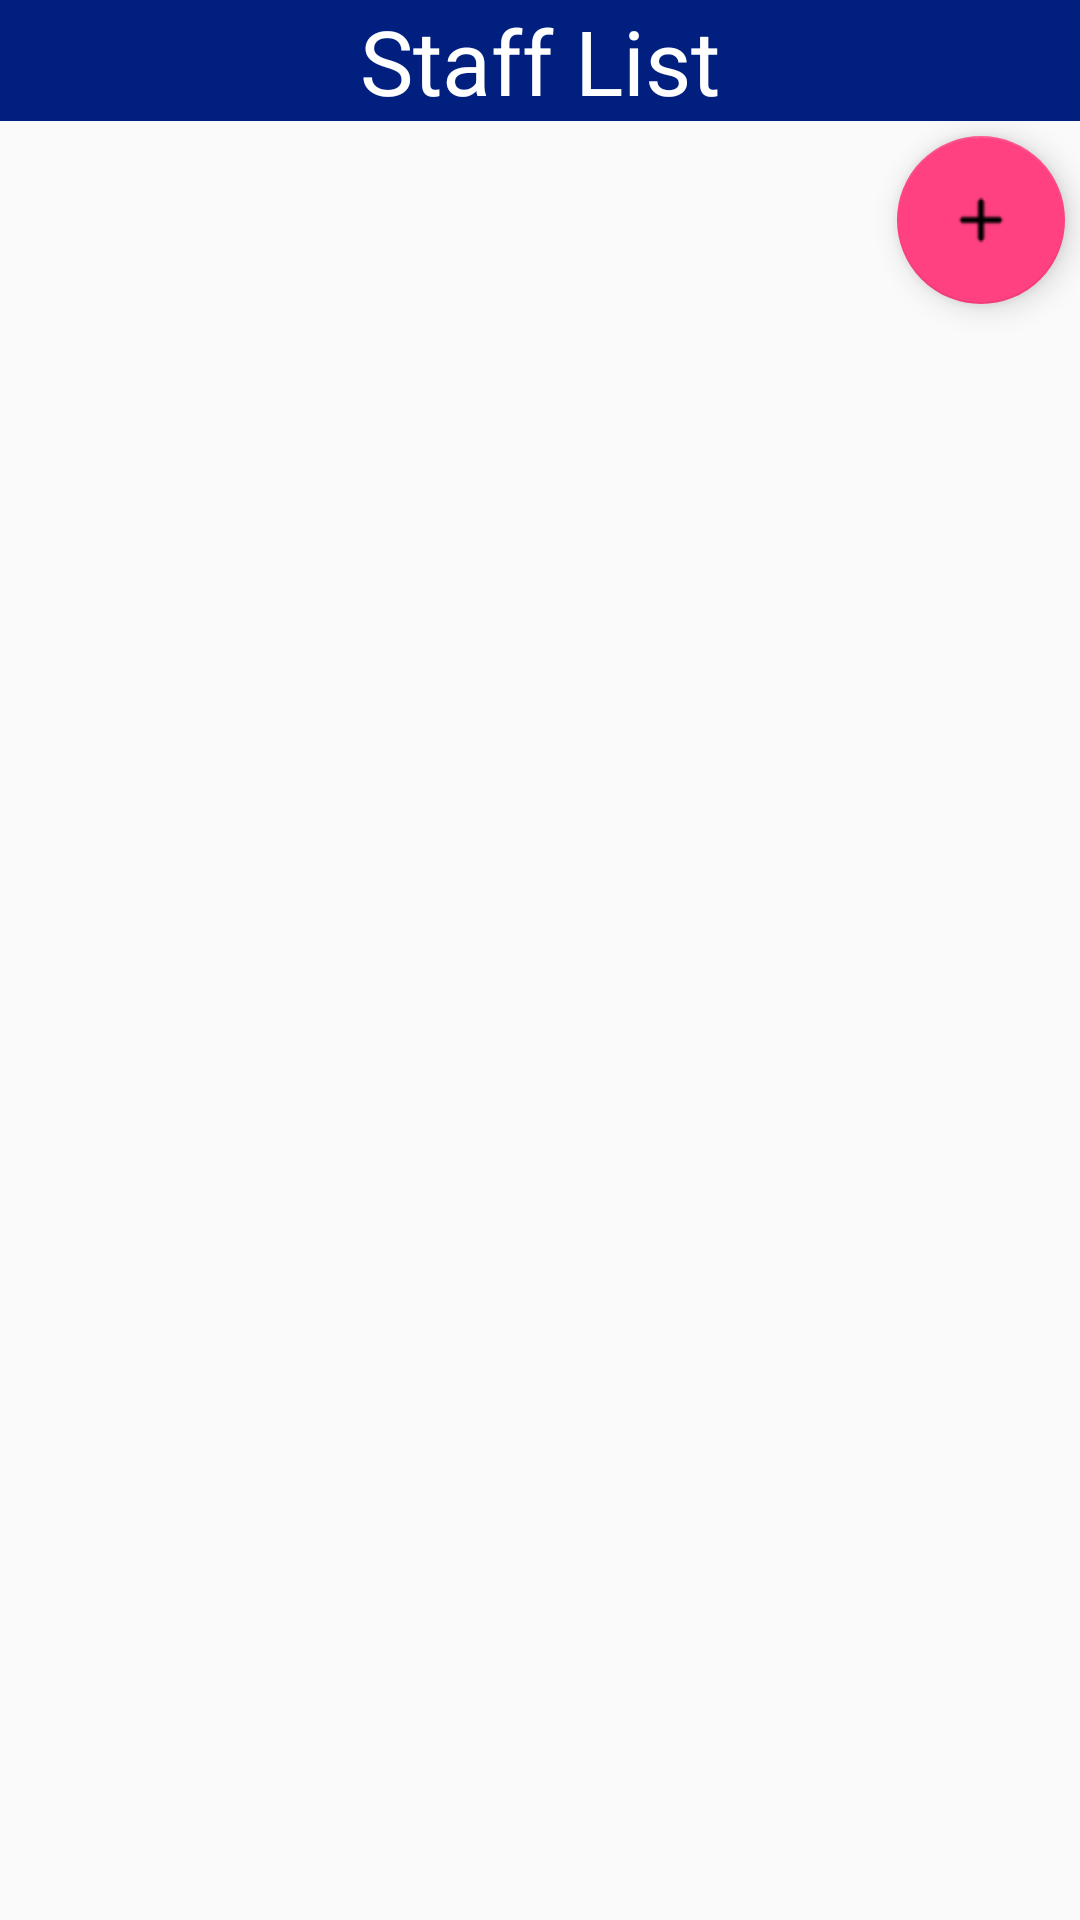

Icon click points for this 1080*1920 phone screenshot, format (x,y):
add: (981,220)
